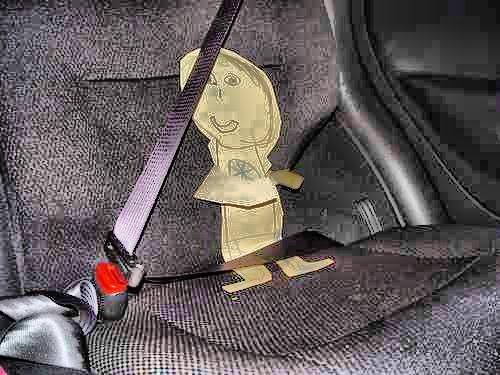seatbelt: (86, 9, 256, 304)
